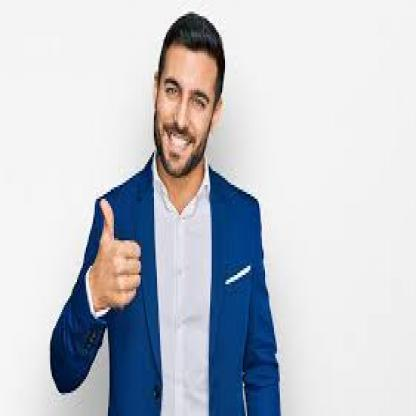thumb_up: (87, 193, 144, 322)
